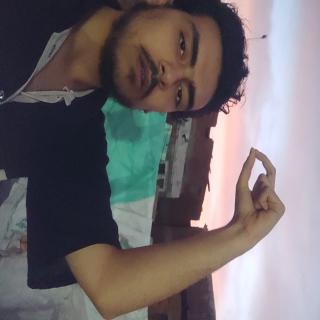FAA: (110, 42, 190, 121)
